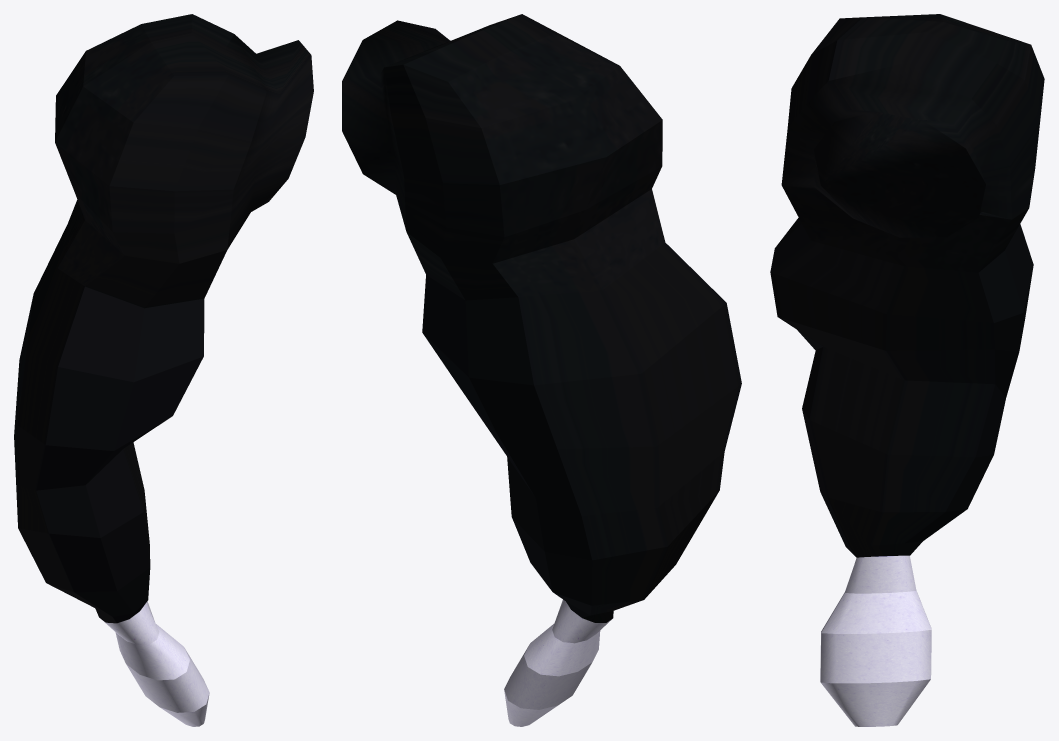
File: brazo_R.obj
3 views of the same model, side by side, from view 1: azimuth 30°, elevation 25°; view 2: azimuth 150°, elevation 25°; view 3: azimuth 270°, elevation 25° (orthographic). The views are drawn at different scales.
Parts seen in each view (by area): view 1: Cylinder.003; view 2: Cylinder.003; view 3: Cylinder.003.
Boxes of the visible parts, <box> form: Cylinder.003: <box>14,14,313,726</box>; Cylinder.003: <box>342,14,741,726</box>; Cylinder.003: <box>770,14,1044,726</box>.
Bounding box in the file's own units: 0.6447 × 1.33 × 0.467.
